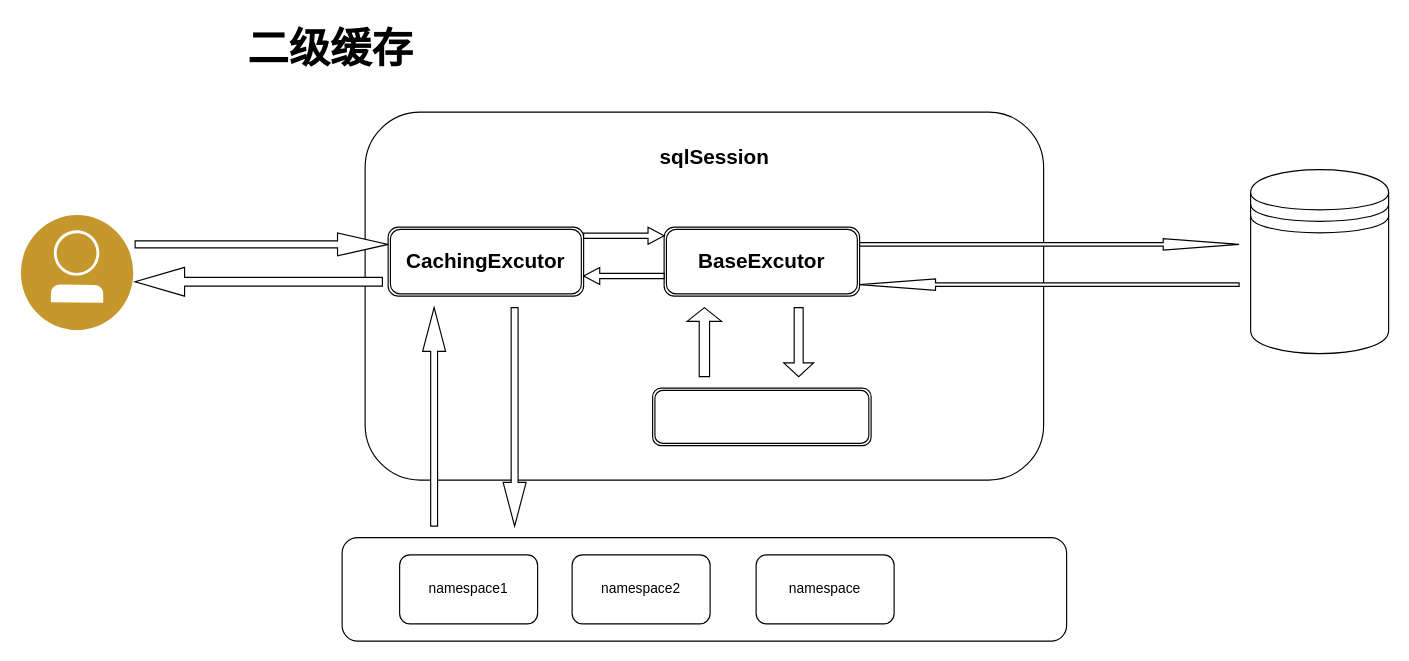
Some shapes in this 1409 by 661 pixel diagram are drawn without their labels. The shapes that lost their labels are listed below. From the top down, each one's box as (x1, y1, x2, y2) in pixels, then its label:
(1249, 168, 1389, 354): database
(651, 387, 871, 446): localCache
